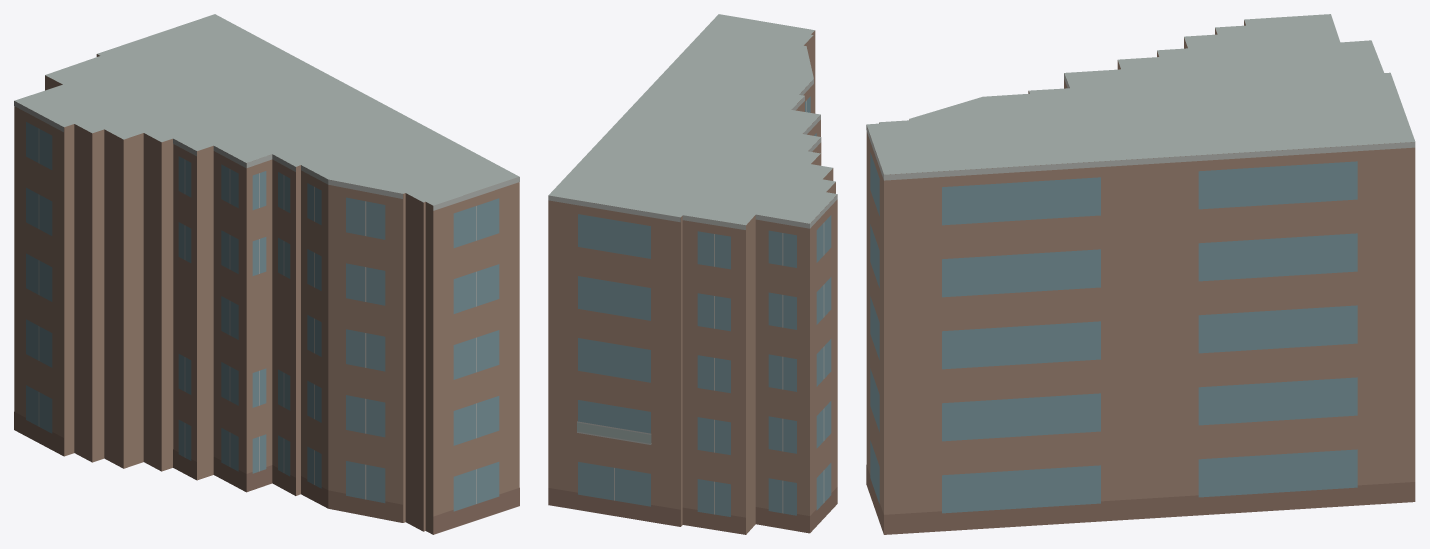
Rendered from survey-upis-33032143.glb.
The picture shows the model from 3 angles, left to right: view 1: azimuth 30°, elevation 25°; view 2: azimuth 150°, elevation 25°; view 3: azimuth 270°, elevation 25°; orthographic projection. The views are drawn at different scales.
Parts seen in each view (by area): view 1: survey-upis-33032143.tmp; view 2: survey-upis-33032143.tmp; view 3: survey-upis-33032143.tmp.
Boxes of the visible parts, x1=… form: survey-upis-33032143.tmp: x1=14, y1=14, x2=519, y2=534; survey-upis-33032143.tmp: x1=548, y1=14, x2=837, y2=534; survey-upis-33032143.tmp: x1=866, y1=14, x2=1415, y2=534.
Size of the model in its own units: 14.62 by 15.25 by 21.08.
